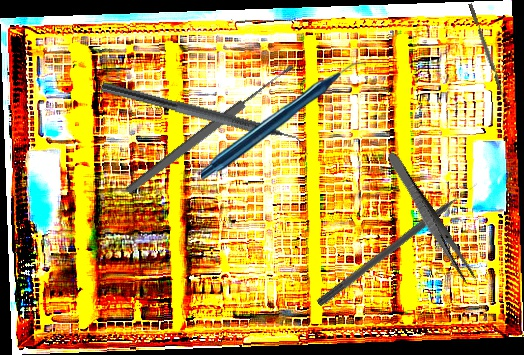Chopper: (97, 81, 313, 159), (468, 1, 511, 104)
Dressing Forceps: (381, 149, 479, 287)
Handpiece: (201, 60, 366, 181)
Pusher: (315, 180, 482, 309)
Surgical Spoon: (124, 62, 296, 196)
